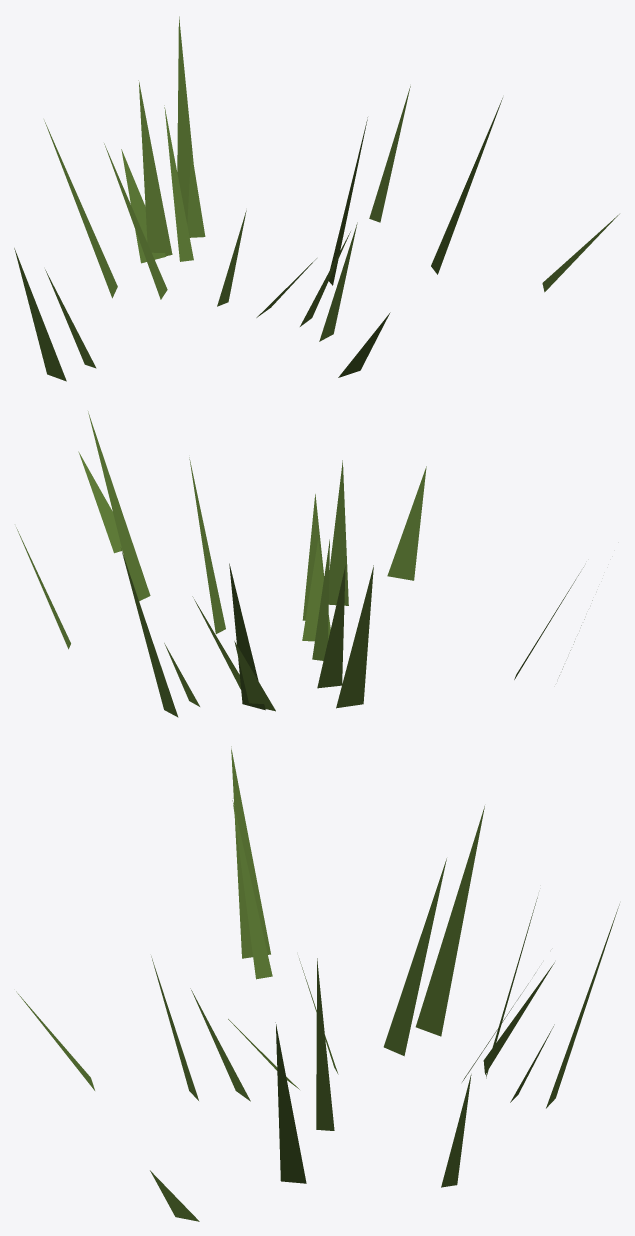
Rendered from grass-tuft.glb.
3 views of the same model, one above another, from view 1: azimuth 30°, elevation 25°; view 2: azimuth 150°, elevation 25°; view 3: azimuth 270°, elevation 25° (orthographic). The views are drawn at different scales.
Visible parts, largest first — view 1: Grama · touceira leve; view 2: Grama · touceira leve; view 3: Grama · touceira leve.
Part boxes in pixels (left/top/right/bottom): Grama · touceira leve: left=14, top=16, right=619, bottom=381; Grama · touceira leve: left=16, top=411, right=592, bottom=717; Grama · touceira leve: left=16, top=746, right=619, bottom=1221.
Size of the model in its own units: 0.3819 by 0.1167 by 0.2977.
